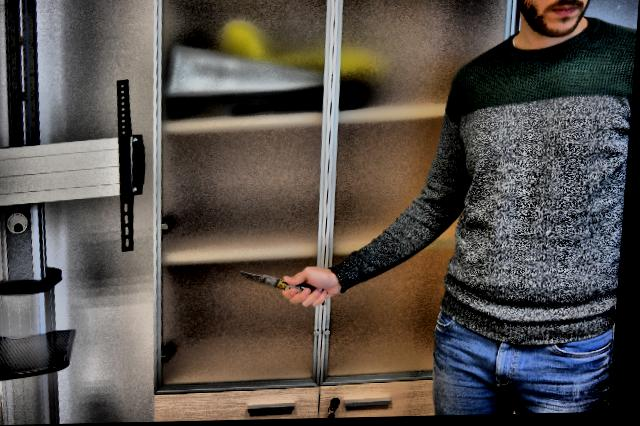knife: (239, 267, 335, 312)
